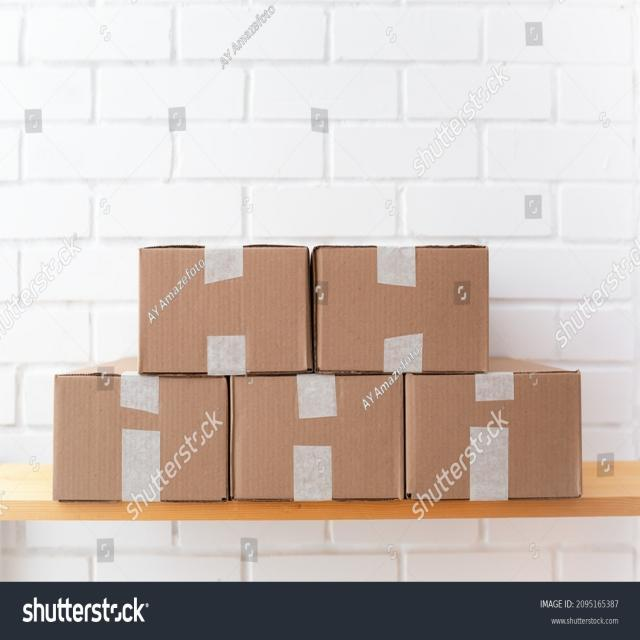BoxFace: (53, 372, 229, 506), (404, 370, 582, 500), (314, 246, 489, 374), (140, 244, 310, 374), (233, 374, 404, 500)
